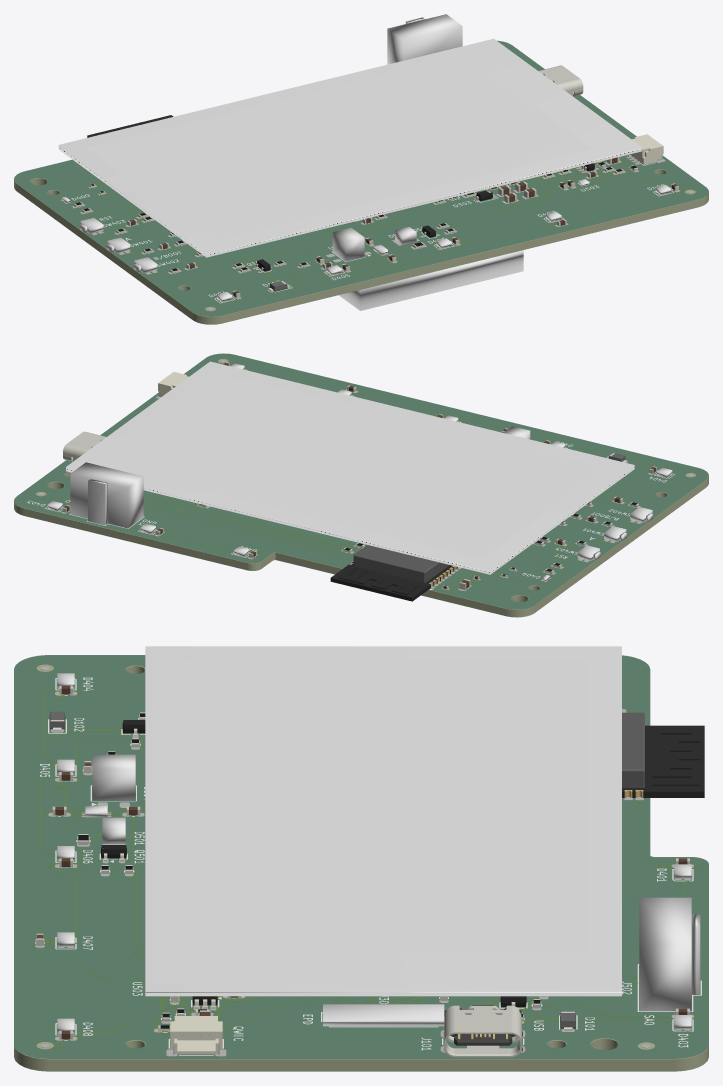
The model's file is board.glb.
The picture shows the model from 3 angles, top to bottom: view 1: azimuth 30°, elevation 25°; view 2: azimuth 150°, elevation 25°; view 3: azimuth 270°, elevation 25°; orthographic projection. The views are drawn at different scales.
Parts seen in each view (by area): view 1: =>[0:1:1:57], =>[0:1:1:79], =>[0:1:1:81], =>[0:1:1:71], =>[0:1:1:47], =>[0:1:1:75], =>[0:1:1:77], =>[0:1:1:41], =>[0:1:1:63], =>[0:1:1:49], =>[0:1:1:80]; view 2: =>[0:1:1:57], =>[0:1:1:79], =>[0:1:1:81], =>[0:1:1:23], =>[0:1:1:47], =>[0:1:1:77], =>[0:1:1:63], =>[0:1:1:75], =>[0:1:1:80]; view 3: =>[0:1:1:57], =>[0:1:1:81], =>[0:1:1:79], =>[0:1:1:47], =>[0:1:1:23], =>[0:1:1:63], =>[0:1:1:77], =>[0:1:1:59], =>[0:1:1:41], =>[0:1:1:49], =>[0:1:1:74], =>[0:1:1:75] (+1 smaller).
Boxes of the visible parts, bbox=[...] form: =>[0:1:1:57]: bbox=[58, 38, 641, 257]; =>[0:1:1:79]: bbox=[14, 40, 708, 316]; =>[0:1:1:81]: bbox=[14, 41, 708, 324]; =>[0:1:1:71]: bbox=[339, 250, 523, 310]; =>[0:1:1:47]: bbox=[387, 14, 462, 64]; =>[0:1:1:75]: bbox=[61, 156, 692, 310]; =>[0:1:1:77]: bbox=[71, 154, 673, 303]; =>[0:1:1:41]: bbox=[332, 228, 364, 261]; =>[0:1:1:63]: bbox=[538, 65, 583, 96]; =>[0:1:1:49]: bbox=[628, 134, 663, 164]; =>[0:1:1:80]: bbox=[14, 188, 708, 324]; =>[0:1:1:57]: bbox=[66, 361, 634, 574]; =>[0:1:1:79]: bbox=[14, 353, 708, 609]; =>[0:1:1:81]: bbox=[14, 354, 708, 617]; =>[0:1:1:23]: bbox=[330, 545, 457, 601]; =>[0:1:1:47]: bbox=[70, 462, 143, 528]; =>[0:1:1:77]: bbox=[27, 369, 674, 589]; =>[0:1:1:63]: bbox=[63, 431, 106, 461]; =>[0:1:1:75]: bbox=[38, 360, 693, 591]; =>[0:1:1:80]: bbox=[14, 486, 707, 617]; =>[0:1:1:57]: bbox=[145, 646, 621, 996]; =>[0:1:1:81]: bbox=[14, 656, 708, 1071]; =>[0:1:1:79]: bbox=[14, 655, 708, 1058]; =>[0:1:1:47]: bbox=[639, 897, 700, 1011]; =>[0:1:1:23]: bbox=[622, 712, 704, 797]; =>[0:1:1:63]: bbox=[444, 1005, 521, 1057]; =>[0:1:1:77]: bbox=[35, 677, 701, 1055]; =>[0:1:1:59]: bbox=[323, 1004, 444, 1026]; =>[0:1:1:41]: bbox=[92, 754, 135, 800]; =>[0:1:1:49]: bbox=[170, 1016, 222, 1054]; =>[0:1:1:74]: bbox=[30, 687, 699, 1048]; =>[0:1:1:75]: bbox=[36, 666, 693, 1056].
Size of the model in its own units: 0.11 by 0.0172 by 0.08.
